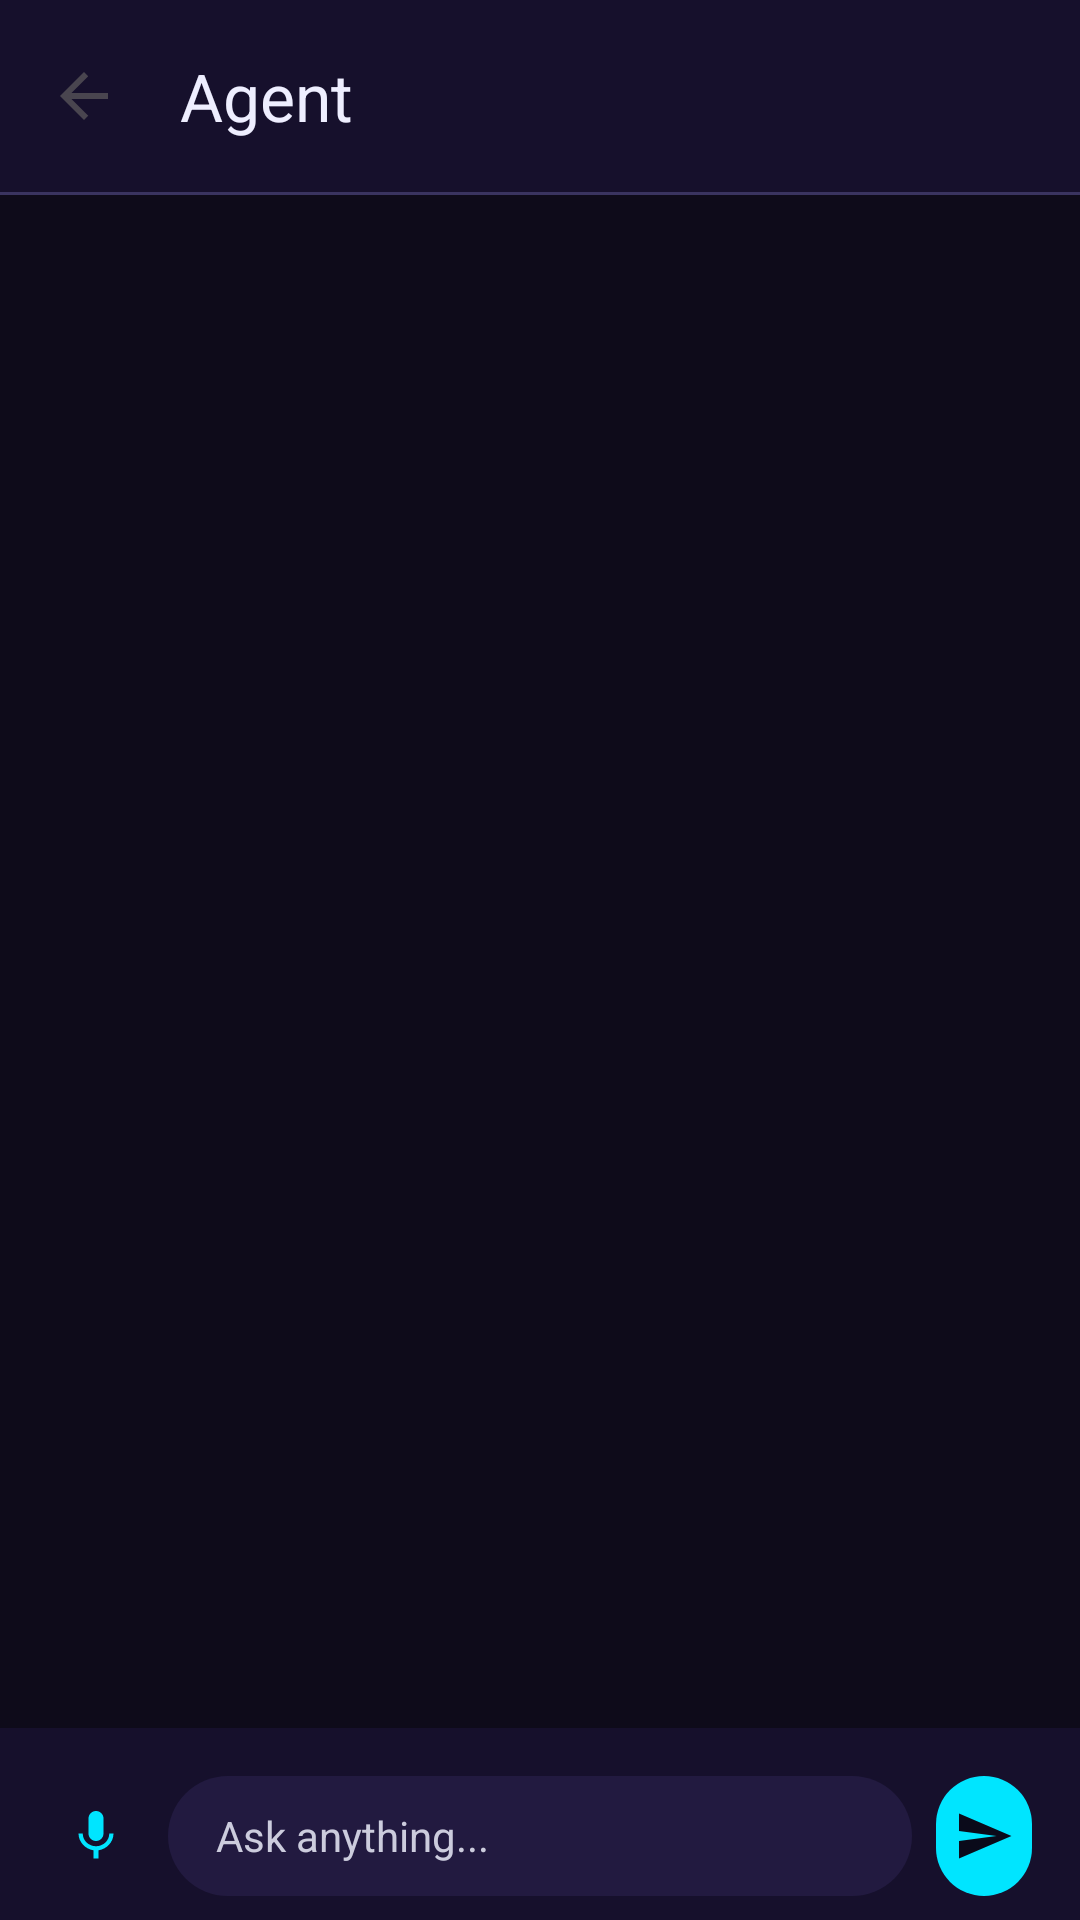

Named icons in this screenshot (1080 x 1920) and their centers, (x=x, y=y):
Send: (x=984, y=1836)
Voice input: (x=96, y=1835)
